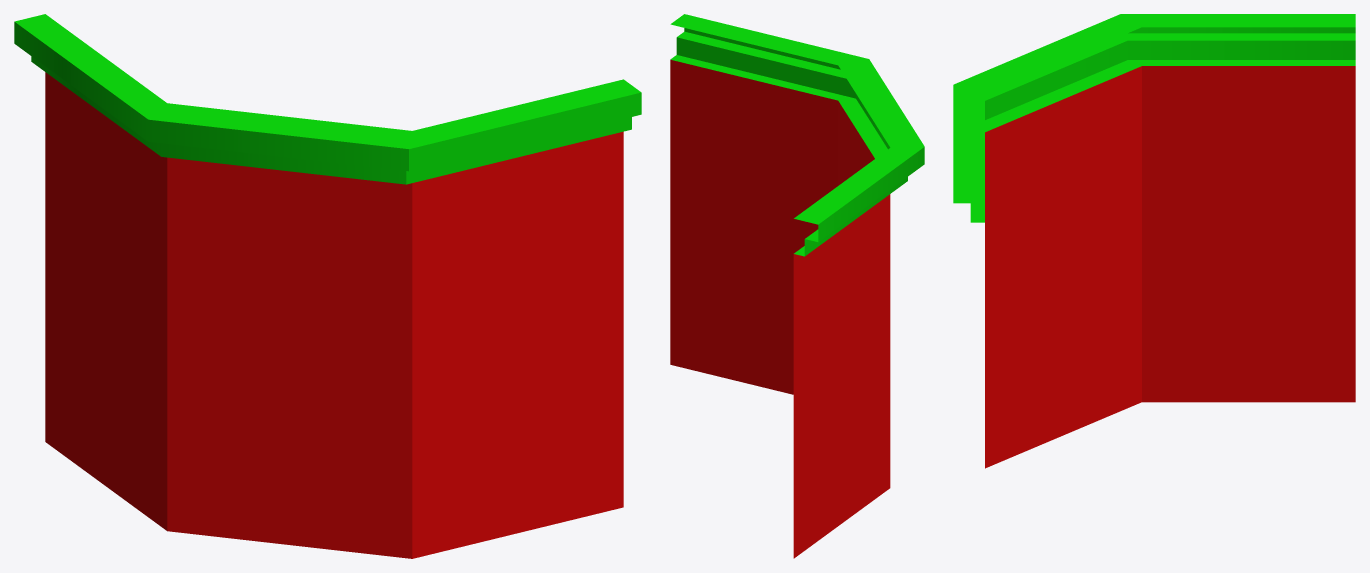
Rendered from Wall_Corner.fbx.
3 views of the same model, side by side, from view 1: azimuth 30°, elevation 25°; view 2: azimuth 150°, elevation 25°; view 3: azimuth 270°, elevation 25° (orthographic). The views are drawn at different scales.
Parts seen in each view (by area): view 1: Build_1_Wall_Corner; view 2: Build_1_Wall_Corner; view 3: Build_1_Wall_Corner.
Part boxes in pixels (x1,y1,x2,y2): Build_1_Wall_Corner: [14, 14, 641, 558]; Build_1_Wall_Corner: [670, 14, 924, 558]; Build_1_Wall_Corner: [953, 14, 1355, 468].
Bounding box in the file's own units: 282 × 282 × 290.
